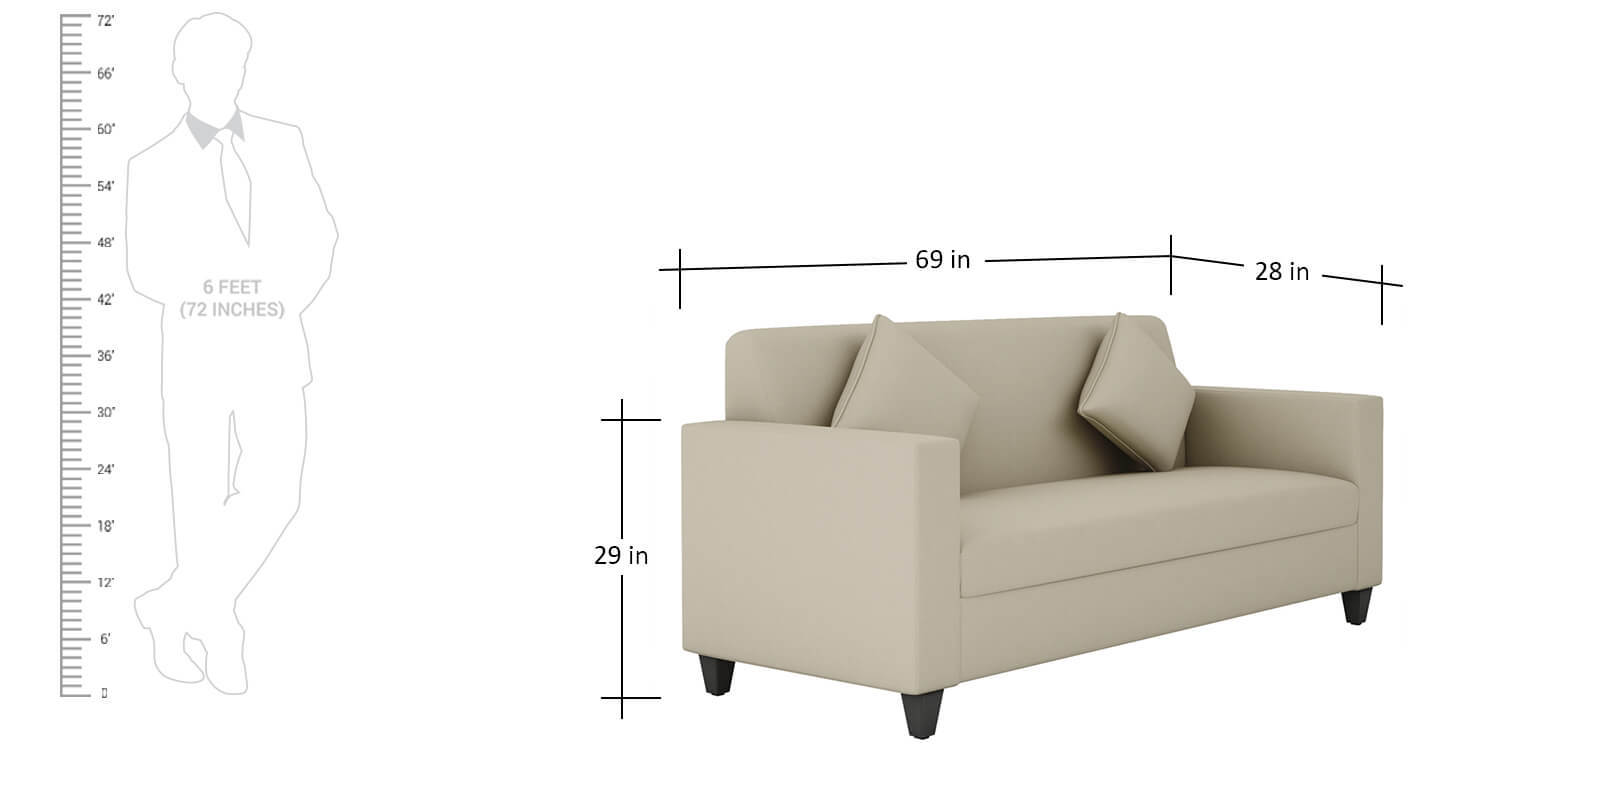Cooper Three Seater Sofa in Beige Colour by ARRA: (672, 313, 1397, 736)
